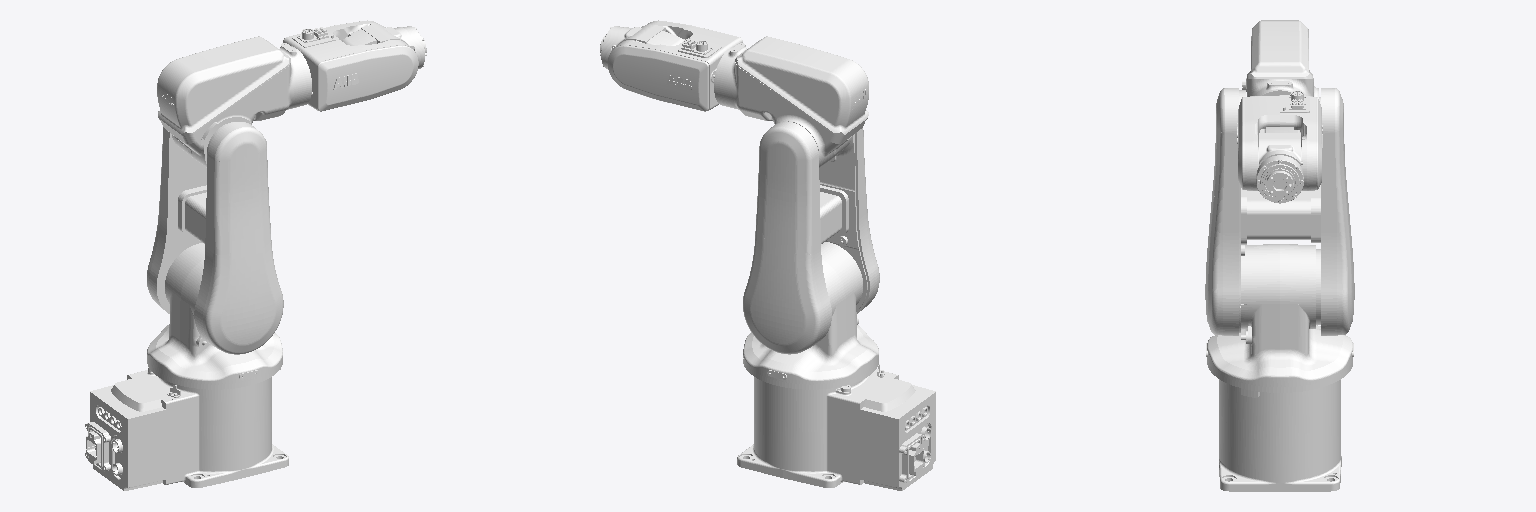
robot.urdf — abb:
<?xml version="1.0" ?>
<!-- =================================================================================== -->
<!-- |    This document was autogenerated by xacro from irb_120.urdf.xacro             | -->
<!-- |    EDITING THIS FILE BY HAND IS NOT RECOMMENDED                                 | -->
<!-- =================================================================================== -->
<robot name="abb">
  <material name="white">
    <color rgba="1 1 1 1"/>
  </material>
  <link name="base_link"/>
  <!-- <link name="base_link"/> -->
  <link name="r2_link_0">
    <visual>
      <geometry>
        <mesh filename="package://abb_irb_120_resource/meshes/Link_1.stl"/>
      </geometry>
      <material name="white"/>
    </visual>
    <collision>
      <geometry>
        <mesh filename="package://abb_irb_120_resource/meshes/Link_1.stl"/>
      </geometry>
    </collision>
  </link>
  <joint name="r2_joint_0" type="fixed">
    <parent link="base_link"/>
    <child link="r2_link_0"/>
    <axis xyz="0 0 1"/>
    <origin rpy="0 0 0" xyz="0 0 0"/>
  </joint>
  <link name="r2_link_1">
    <visual>
      <geometry>
        <mesh filename="package://abb_irb_120_resource/meshes/Link_2.stl"/>
      </geometry>
      <material name="white"/>
    </visual>
    <collision>
      <geometry>
        <mesh filename="package://abb_irb_120_resource/meshes/Link_2.stl"/>
      </geometry>
    </collision>
  </link>
  <joint name="r2_joint_1" type="revolute">
    <parent link="r2_link_0"/>
    <child link="r2_link_1"/>
    <axis xyz="0 0 1"/>
    <origin rpy="0.0 0.0 0.0" xyz="0.0 0.0 0.166"/>
    <limit effort="1000.0" lower="-2.87925" upper="2.87925" velocity="1000"/>
  </joint>
  <link name="r2_link_2">
    <visual>
      <geometry>
        <mesh filename="package://abb_irb_120_resource/meshes/Link_3.stl"/>
      </geometry>
      <material name="white"/>
    </visual>
    <collision>
      <geometry>
        <mesh filename="package://abb_irb_120_resource/meshes/Link_3.stl"/>
      </geometry>
    </collision>
  </link>
  <joint name="r2_joint_2" type="revolute">
    <parent link="r2_link_1"/>
    <child link="r2_link_2"/>
    <axis xyz="0 0 1"/>
    <origin rpy="-1.5707 0.0 0.0" xyz="0.0 0.0 0.124"/>
    <limit effort="1000.0" lower="-1.9195" upper="1.9195" velocity="1000"/>
  </joint>
  <link name="r2_link_3">
    <visual>
      <geometry>
        <mesh filename="package://abb_irb_120_resource/meshes/Link_4.stl"/>
      </geometry>
      <material name="white"/>
    </visual>
    <collision>
      <geometry>
        <mesh filename="package://abb_irb_120_resource/meshes/Link_4.stl"/>
      </geometry>
    </collision>
  </link>
  <joint name="r2_joint_3" type="revolute">
    <parent link="r2_link_2"/>
    <child link="r2_link_3"/>
    <axis xyz="0 0 1"/>
    <origin rpy="0.0 0.0 -1.5707" xyz="0.0 -0.270 0.0"/>
    <limit effort="1000.0" lower="-1.9195" upper="1.2215" velocity="1000"/>
  </joint>
  <link name="r2_link_4">
    <visual>
      <geometry>
        <mesh filename="package://abb_irb_120_resource/meshes/Link_5.stl"/>
      </geometry>
      <material name="white"/>
    </visual>
    <collision>
      <geometry>
        <mesh filename="package://abb_irb_120_resource/meshes/Link_5.stl"/>
      </geometry>
    </collision>
  </link>
  <joint name="r2_joint_4" type="revolute">
    <parent link="r2_link_3"/>
    <child link="r2_link_4"/>
    <axis xyz="0 0 1"/>
    <origin rpy="-1.5707 0.0 0.0" xyz="0.07 0.149 0.0"/>
    <limit effort="1000.0" lower="-2.792" upper="2.792" velocity="1000"/>
  </joint>
  <link name="r2_link_5">
    <visual>
      <geometry>
        <mesh filename="package://abb_irb_120_resource/meshes/Link_6.stl"/>
      </geometry>
      <material name="white"/>
    </visual>
    <collision>
      <geometry>
        <mesh filename="package://abb_irb_120_resource/meshes/Link_6.stl"/>
      </geometry>
    </collision>
  </link>
  <joint name="r2_joint_5" type="revolute">
    <parent link="r2_link_4"/>
    <child link="r2_link_5"/>
    <axis xyz="0 0 1"/>
    <origin rpy="1.5707 0.0 0.0" xyz="0.0 0.0 0.1524"/>
    <limit effort="1000.0" lower="-2.0940000000000003" upper="2.0940000000000003" velocity="1000"/>
  </joint>
  <link name="r2_link_6">
    <visual>
      <geometry>
        <mesh filename="package://abb_irb_120_resource/meshes/Link_7.stl"/>
      </geometry>
      <material name="white"/>
    </visual>
    <collision>
      <geometry>
        <mesh filename="package://abb_irb_120_resource/meshes/Link_7.stl"/>
      </geometry>
    </collision>
  </link>
  <joint name="r2_joint_6" type="revolute">
    <parent link="r2_link_5"/>
    <child link="r2_link_6"/>
    <axis xyz="0 0 1"/>
    <origin rpy="-1.5707 0.0 0.0" xyz="0.0 0.06041 0.0"/>
    <limit effort="1000.0" lower="-6.98" upper="6.98" velocity="1000"/>
  </joint>
  <link name="r2_endeffector"/>
  <joint name="r2_joint_endeffector" type="fixed">
    <parent link="r2_link_6"/>
    <child link="r2_endeffector"/>
    <origin rpy="0.0 0.0 0.0" xyz="0.0 0.0 0.012"/>
  </joint>
  
</robot>

--- What the picture shows (computed from the rendered views, not written in the file) ---
The picture shows the robot from 3 angles, left to right: view 1: azimuth 30°, elevation 25°; view 2: azimuth 150°, elevation 25°; view 3: azimuth 270°, elevation 25°; orthographic projection.
Robot: abb — 9 links, 8 joints (6 revolute, 2 fixed); root link base_link; default pose: every joint at zero.
Links seen in each view (by area): view 1: r2_link_2, r2_link_0, r2_link_3, r2_link_1, r2_link_4, r2_link_5; view 2: r2_link_2, r2_link_0, r2_link_3, r2_link_1, r2_link_4, r2_link_5; view 3: r2_link_2, r2_link_1, r2_link_0, r2_link_4, r2_link_3, r2_link_5, r2_link_6.
Link boxes in pixels (bbox=[...]): r2_link_2: bbox=[147, 122, 283, 354]; r2_link_0: bbox=[85, 367, 288, 490]; r2_link_3: bbox=[157, 36, 312, 167]; r2_link_1: bbox=[147, 243, 282, 389]; r2_link_4: bbox=[283, 20, 418, 111]; r2_link_5: bbox=[342, 24, 426, 68]; r2_link_2: bbox=[743, 121, 879, 354]; r2_link_0: bbox=[737, 364, 935, 490]; r2_link_3: bbox=[714, 36, 868, 167]; r2_link_1: bbox=[743, 242, 878, 389]; r2_link_4: bbox=[608, 20, 742, 111]; r2_link_5: bbox=[600, 24, 684, 68]; r2_link_2: bbox=[1205, 88, 1354, 335]; r2_link_1: bbox=[1206, 244, 1353, 397]; r2_link_0: bbox=[1219, 379, 1341, 491]; r2_link_4: bbox=[1237, 91, 1322, 190]; r2_link_3: bbox=[1242, 20, 1320, 103]; r2_link_5: bbox=[1256, 127, 1303, 203]; r2_link_6: bbox=[1267, 171, 1293, 196].
Bounding box of the posed robot: 0.586 × 0.2194 × 0.6996 m (x, y, z).
7 mesh visuals loaded from 7 distinct referenced files (7 binary STL).